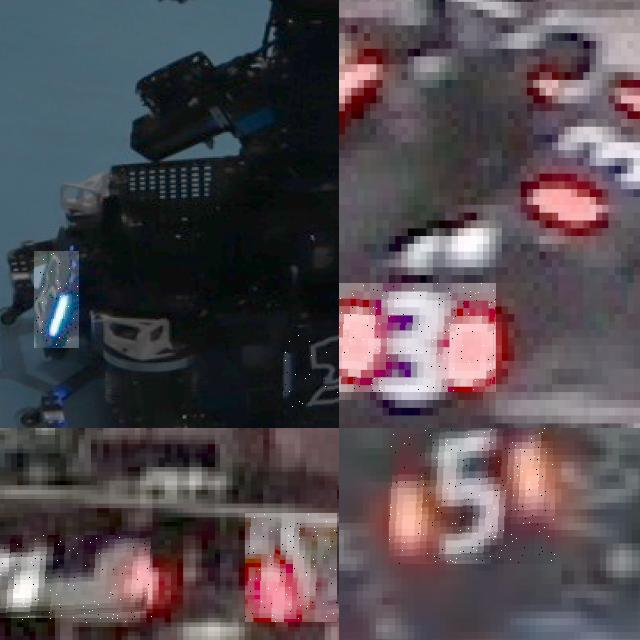Bs: (281, 334, 339, 418), (34, 251, 80, 348)
R1: (0, 535, 152, 622), (245, 513, 337, 622)
R3: (539, 64, 640, 235), (339, 282, 495, 392)
R5: (389, 428, 555, 564)
